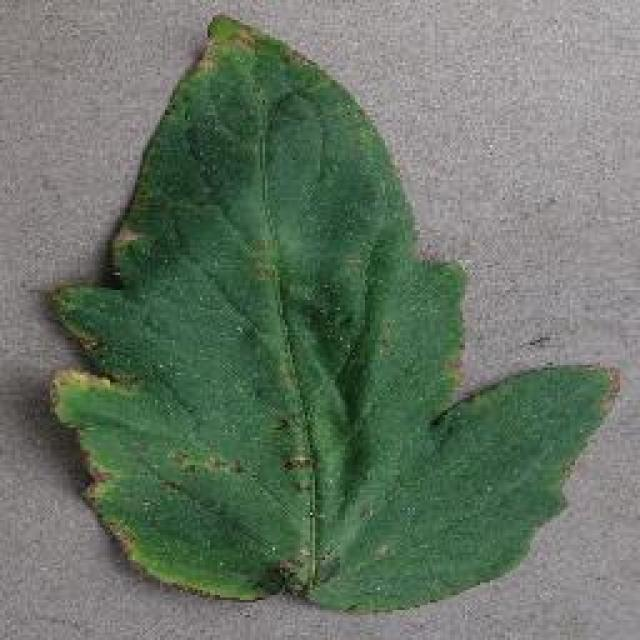Tomato bacterial spot leaf: (41, 6, 624, 616)
